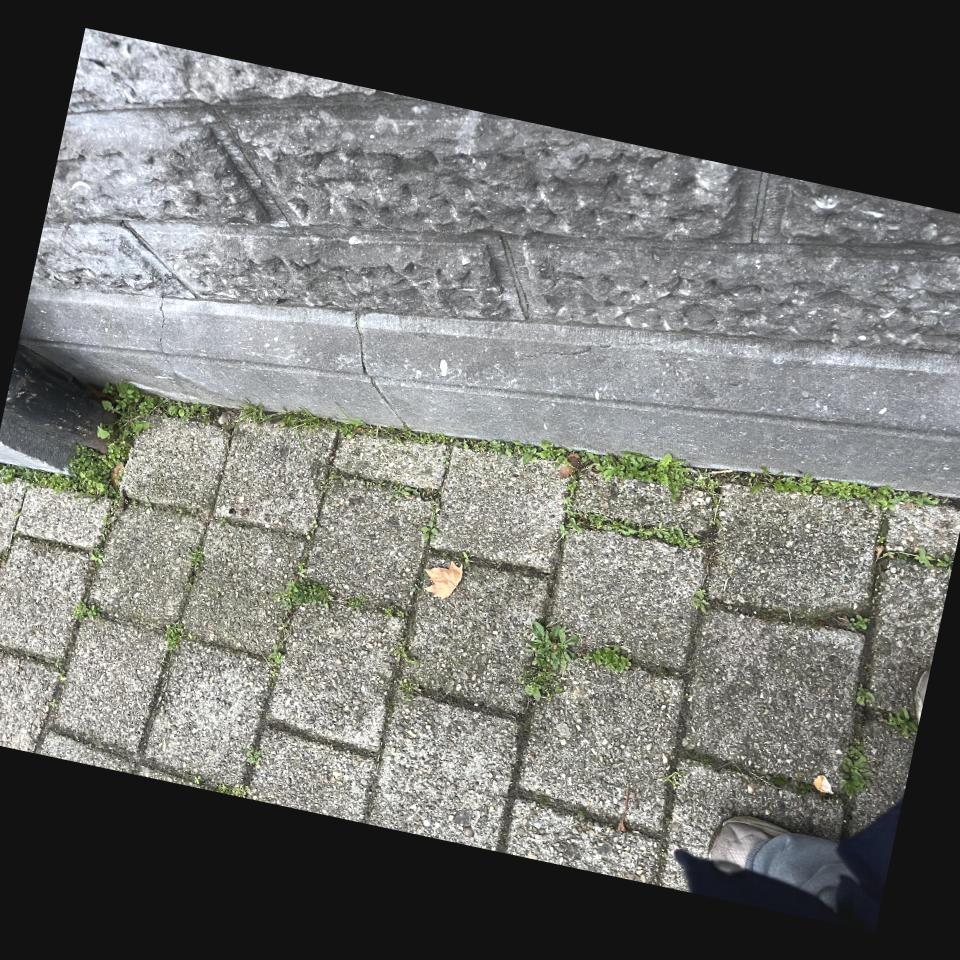weed: (271, 330, 416, 812), (319, 83, 435, 305), (145, 619, 197, 724), (316, 684, 365, 790), (207, 367, 240, 427), (140, 359, 175, 378), (167, 258, 195, 278), (197, 166, 216, 193), (19, 308, 34, 341), (118, 616, 135, 642), (249, 280, 273, 296)
